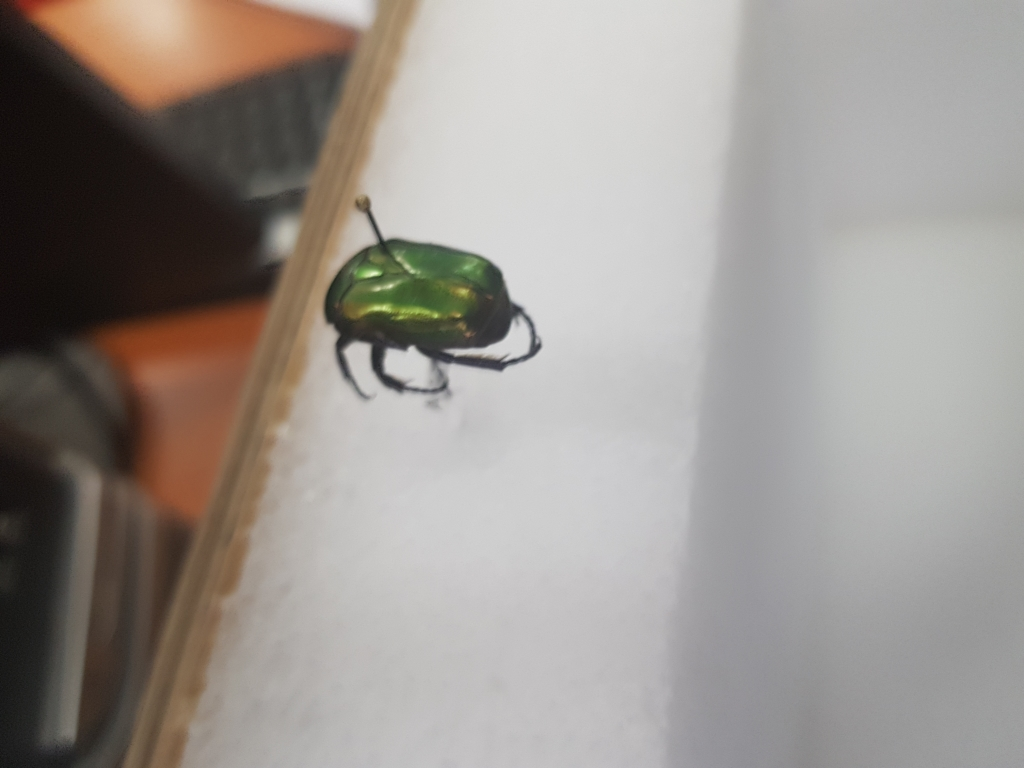Protaetia_cuprea_ignicollis: (315, 236, 545, 403)
